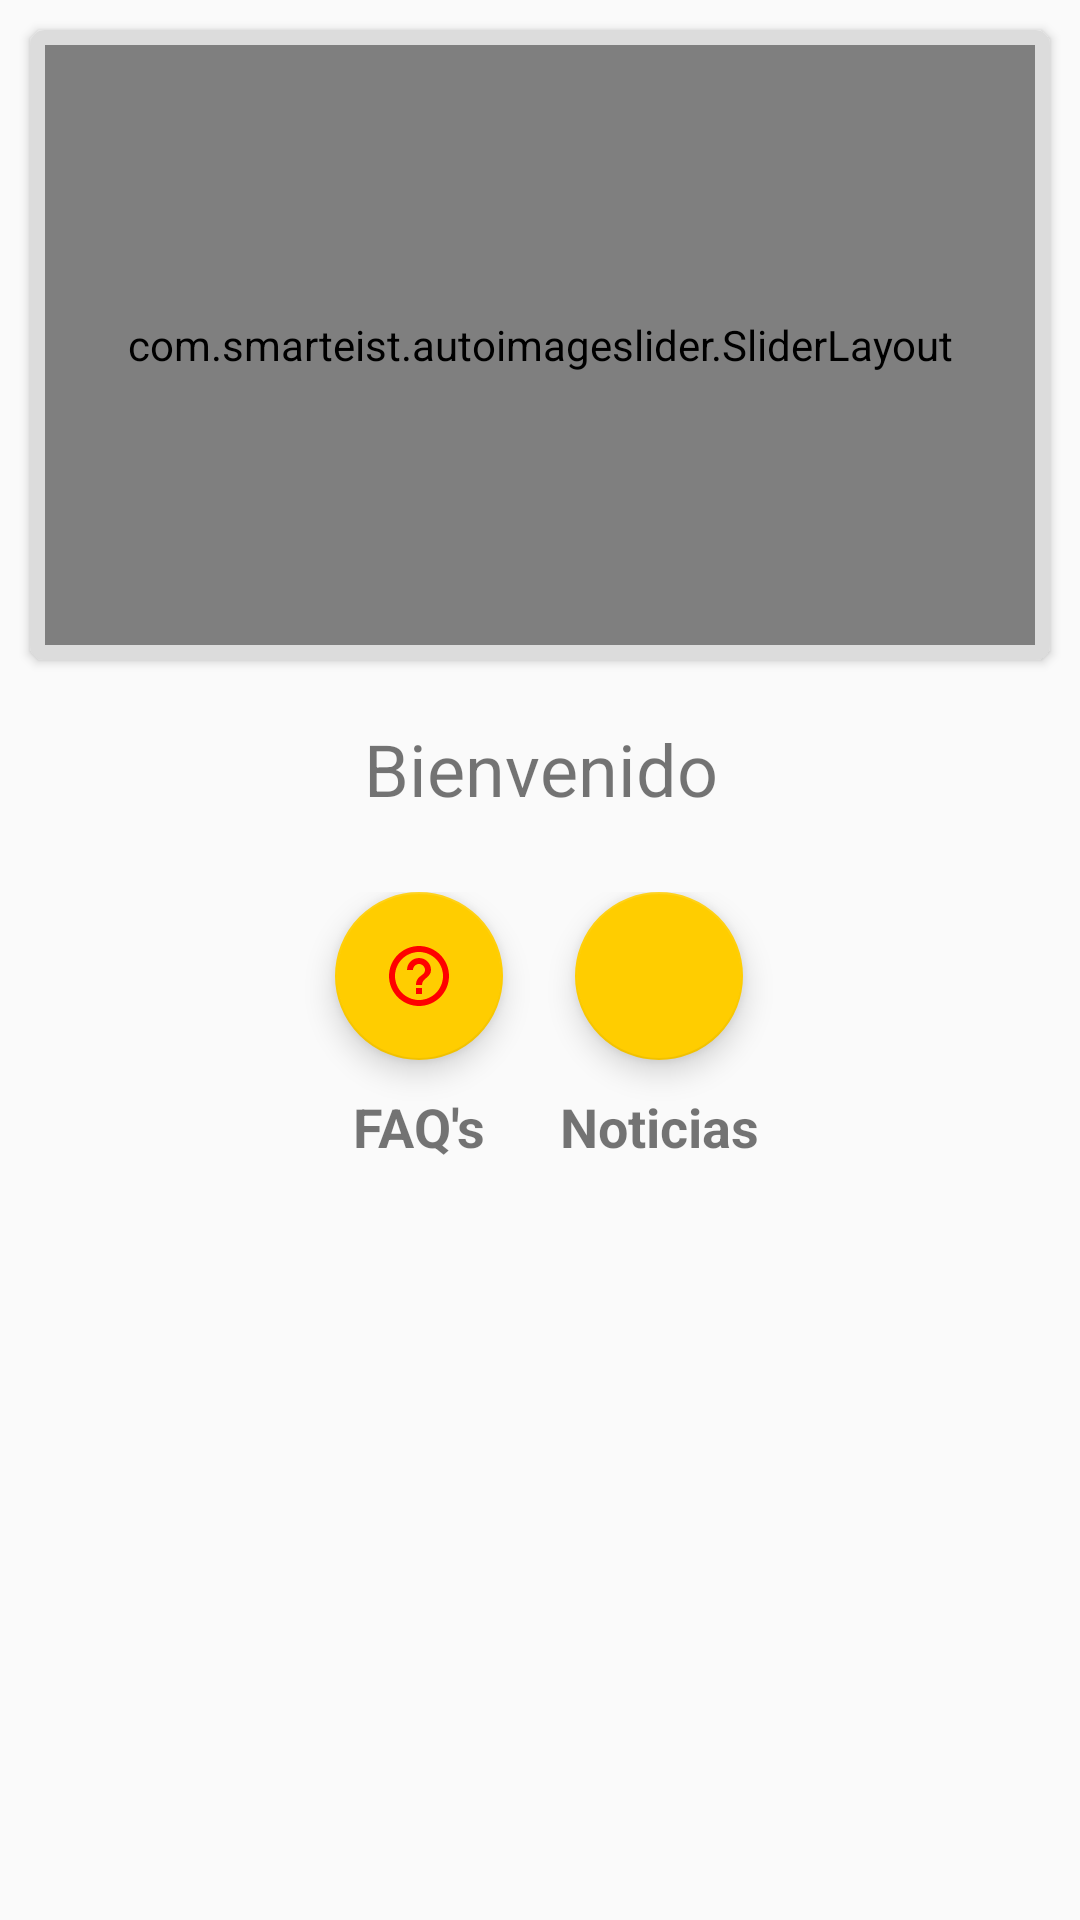

Icons on this 1080 × 1920 Android screen, each with the point to tap as (x,y):
help: (419,976)
